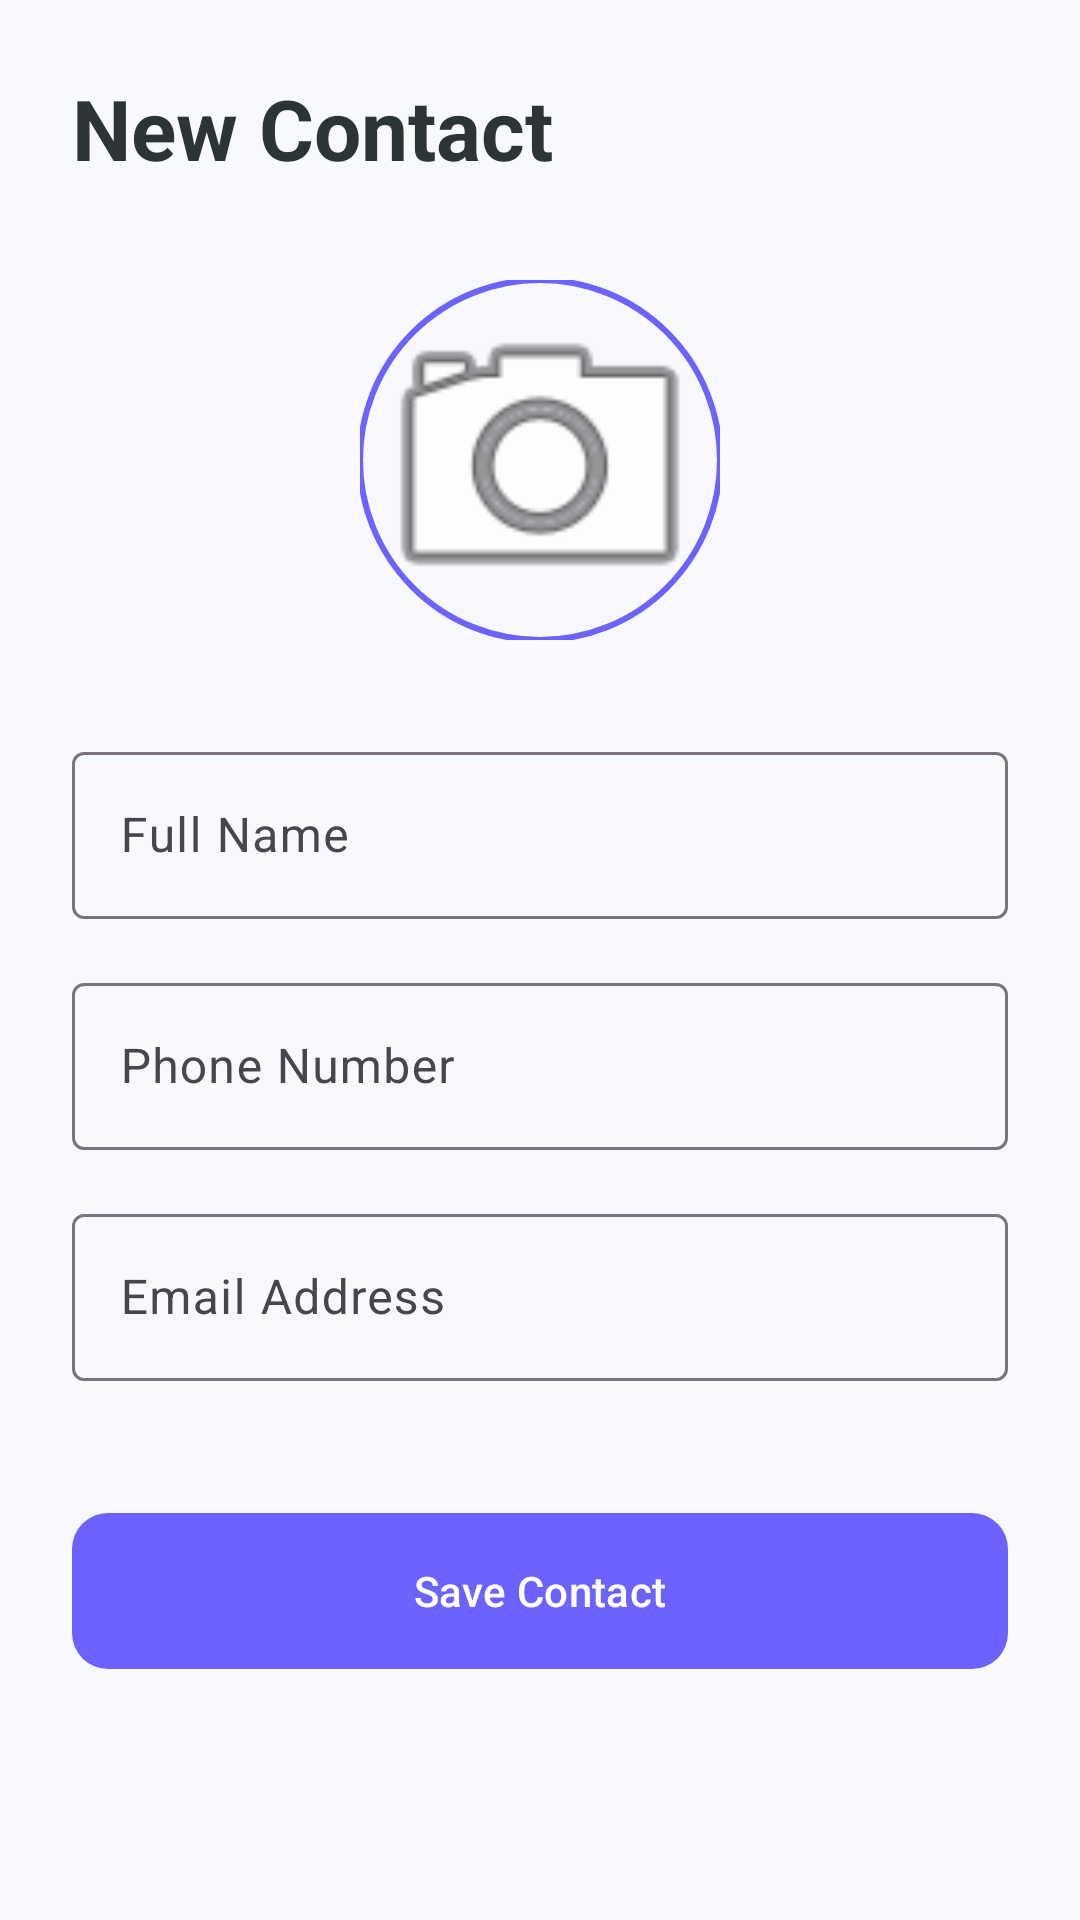

Where to tap for icons on this 1080 x 1920 app screen, as (x=x, y=y):
camera: (x=540, y=460)
